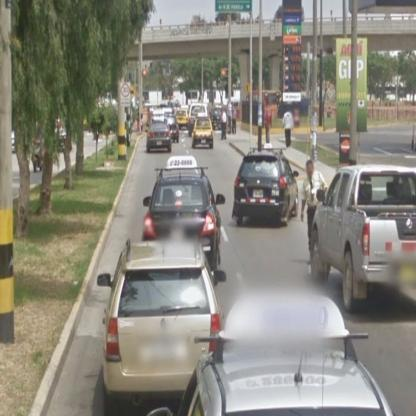Moto: (33, 137, 45, 175)
Peaton: (302, 162, 330, 233), (282, 107, 295, 148), (222, 111, 228, 139)
Pista: (46, 143, 416, 416), (14, 136, 109, 198)
Vehiculo: (102, 240, 226, 414), (309, 167, 416, 315), (175, 351, 394, 416), (143, 173, 223, 269), (234, 151, 300, 225), (191, 117, 214, 152), (147, 124, 173, 154), (167, 115, 181, 145)
